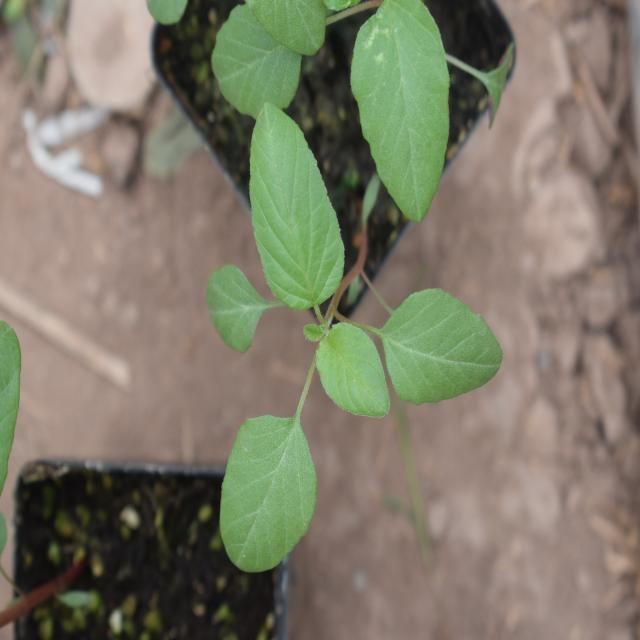pigweed: (191, 105, 505, 571)
